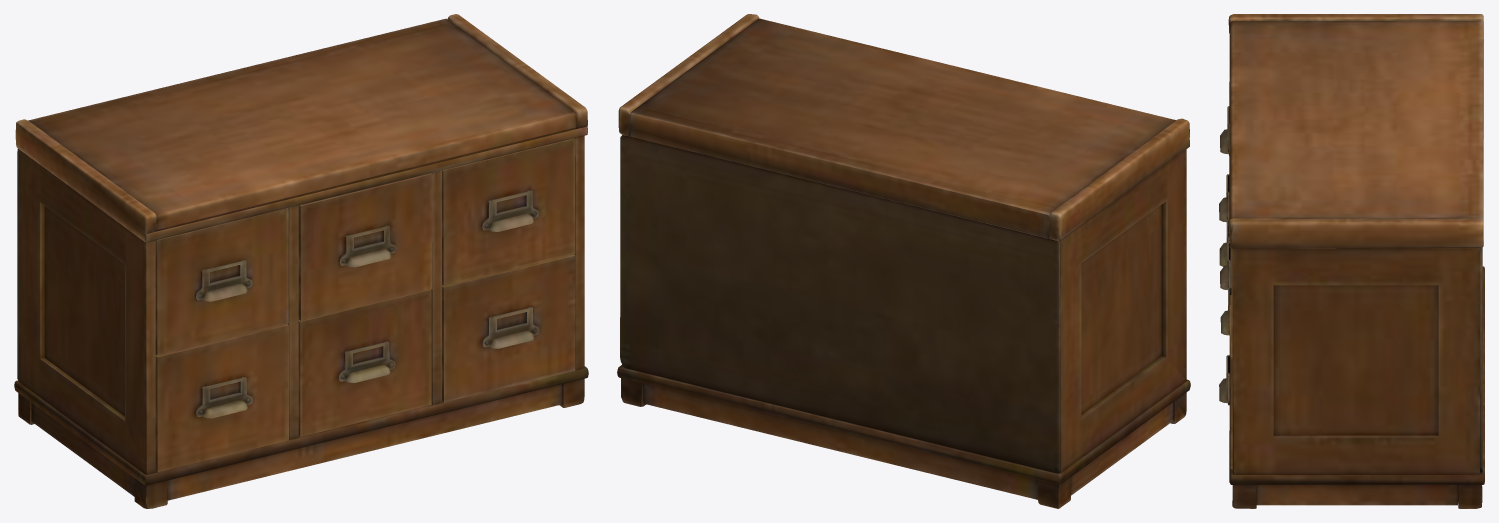
Rendered from vintage_wooden_drawer_01.glb.
3 renders of one model, left to right at view 1: azimuth 30°, elevation 25°; view 2: azimuth 150°, elevation 25°; view 3: azimuth 270°, elevation 25°, orthographic. The views are drawn at different scales.
Parts seen in each view (by area): view 1: vintage_wooden_drawer_01_body; view 2: vintage_wooden_drawer_01_body; view 3: vintage_wooden_drawer_01_body.
Part boxes in pixels (x1,y1,x2,y2): vintage_wooden_drawer_01_body: (14, 14, 588, 508); vintage_wooden_drawer_01_body: (617, 14, 1190, 508); vintage_wooden_drawer_01_body: (1219, 14, 1484, 508).
Size of the model in its own units: 0.8558 by 0.5458 by 0.4572.
1 material, 1 textured.
